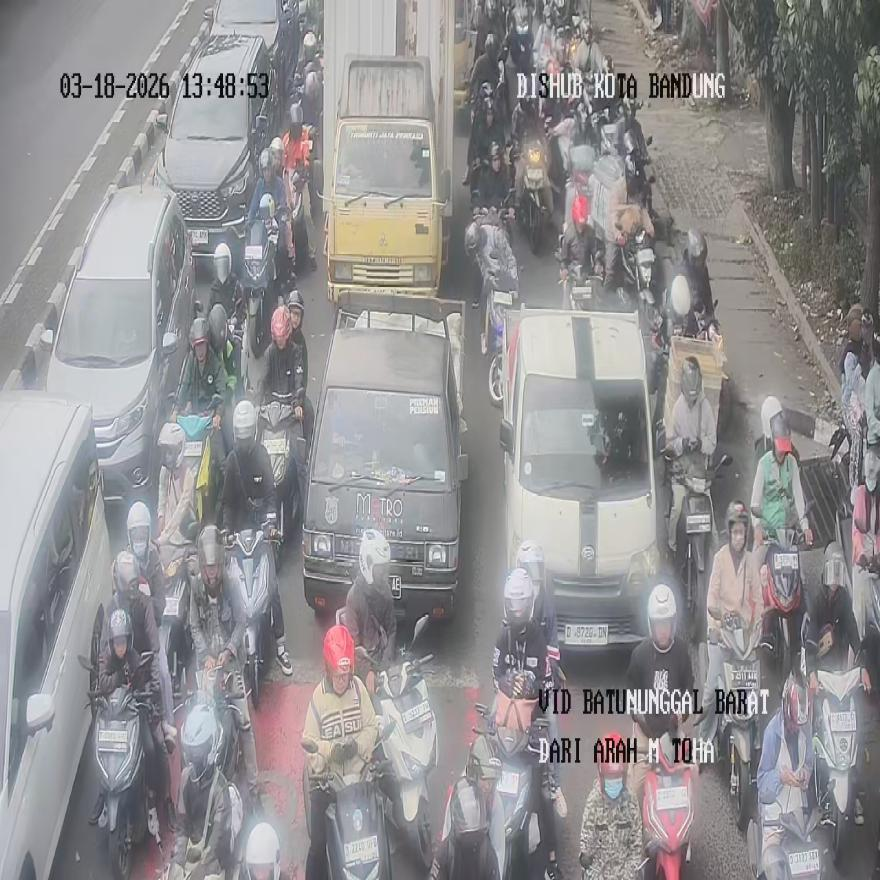Motor: (497, 303, 663, 655), (301, 293, 468, 627), (0, 390, 113, 876), (44, 182, 195, 501), (152, 33, 276, 271), (203, 0, 300, 112)
Truk: (354, 616, 437, 868), (85, 650, 167, 878), (176, 662, 242, 879), (302, 727, 391, 878), (806, 640, 865, 866), (664, 445, 730, 643), (472, 702, 546, 878), (709, 612, 760, 830), (224, 521, 279, 710), (635, 731, 697, 880), (753, 512, 807, 683), (258, 396, 304, 562), (470, 221, 519, 358), (438, 771, 498, 878), (238, 218, 278, 358), (160, 541, 194, 704), (514, 138, 552, 254)
